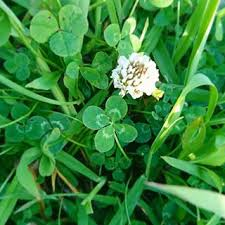4-clover: (86, 95, 136, 152)
